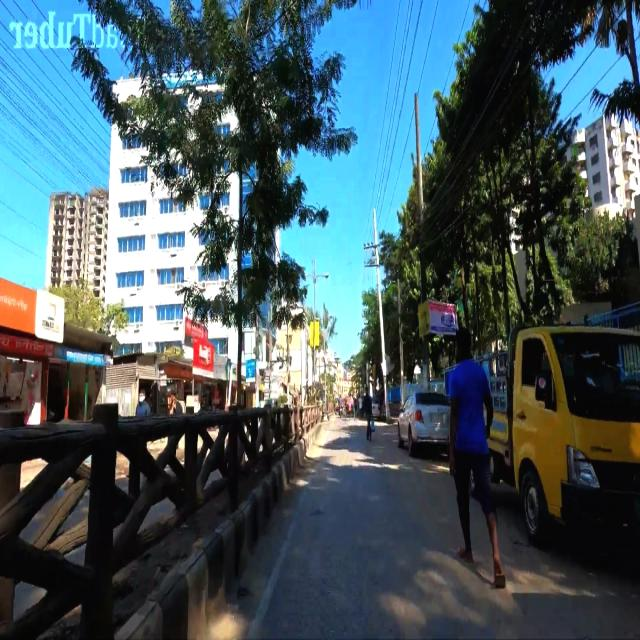white: (396, 387, 450, 456), (371, 394, 382, 420)
